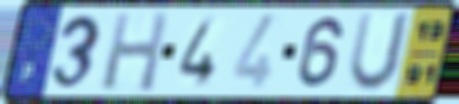3: (48, 10, 111, 92)
4: (229, 10, 278, 94), (176, 15, 219, 89)
6: (295, 14, 347, 91)
H: (98, 9, 172, 94)
U: (344, 10, 415, 96)
